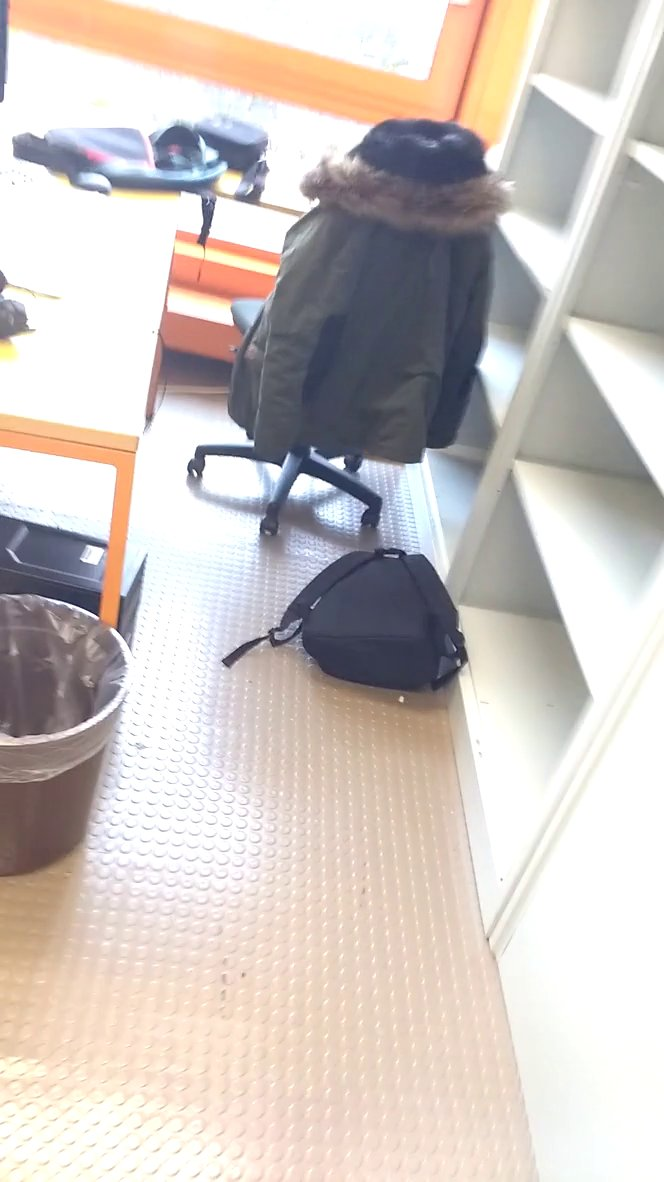bag: (223, 541, 471, 702)
bin: (1, 583, 138, 894)
